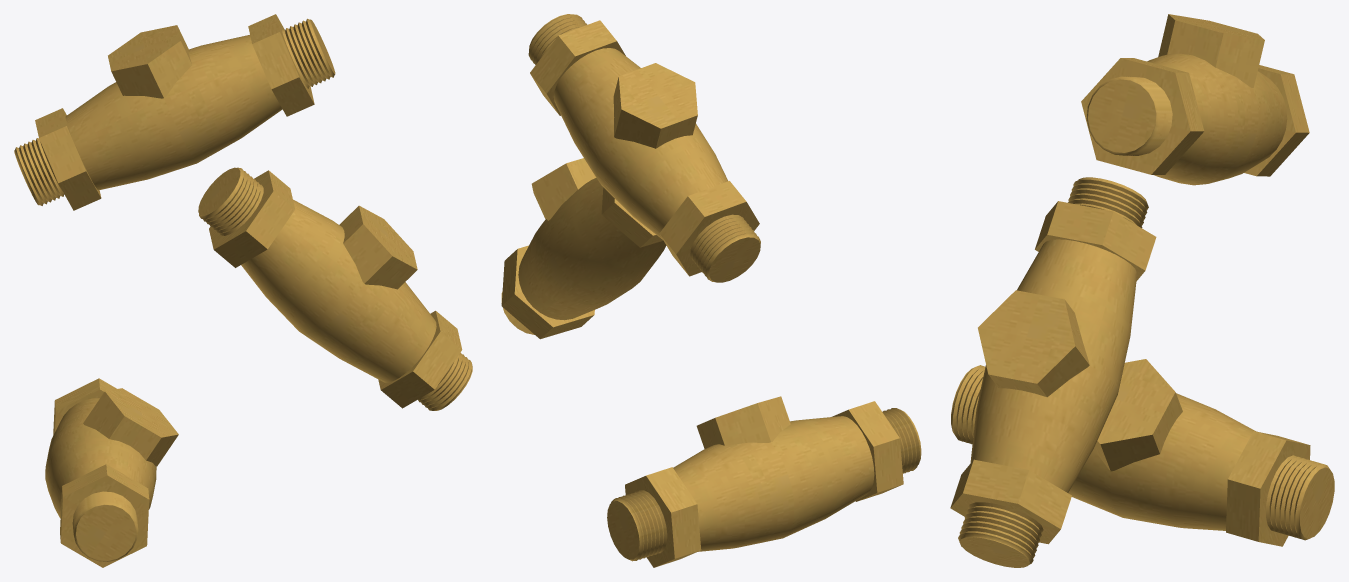
Rendered from HID-REG-004_anim.glb.
3 views of the same model, side by side, from view 1: azimuth 30°, elevation 25°; view 2: azimuth 150°, elevation 25°; view 3: azimuth 270°, elevation 25° (orthographic). The views are drawn at different scales.
Parts seen in each view (by area): view 1: HID-REG-004_anim2, HID-REG-004_anim1, HID-REG-004_anim0; view 2: HID-REG-004_anim0, HID-REG-004_anim2, HID-REG-004_anim1; view 3: HID-REG-004_anim1, HID-REG-004_anim0, HID-REG-004_anim2.
Boxes of the visible parts, x1=… form: HID-REG-004_anim2: x1=14, y1=14, x2=335, y2=210; HID-REG-004_anim1: x1=198, y1=167, x2=472, y2=410; HID-REG-004_anim0: x1=45, y1=378, x2=178, y2=567; HID-REG-004_anim0: x1=607, y1=396, x2=921, y2=567; HID-REG-004_anim2: x1=528, y1=14, x2=760, y2=282; HID-REG-004_anim1: x1=501, y1=158, x2=666, y2=339; HID-REG-004_anim1: x1=950, y1=177, x2=1156, y2=567; HID-REG-004_anim0: x1=951, y1=359, x2=1334, y2=546; HID-REG-004_anim2: x1=1081, y1=14, x2=1309, y2=185.
Size of the model in its own units: 0.1818 by 0.1993 by 0.124.
1 material, 1 textured.
